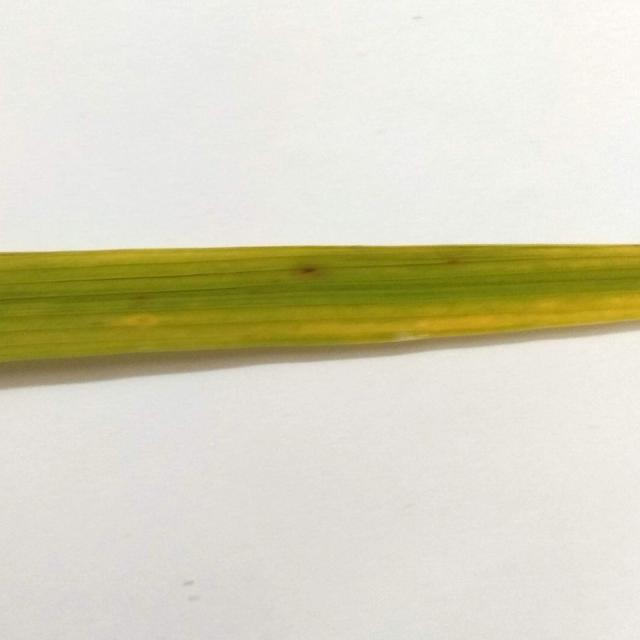Brown spot: (0, 192, 640, 393)
